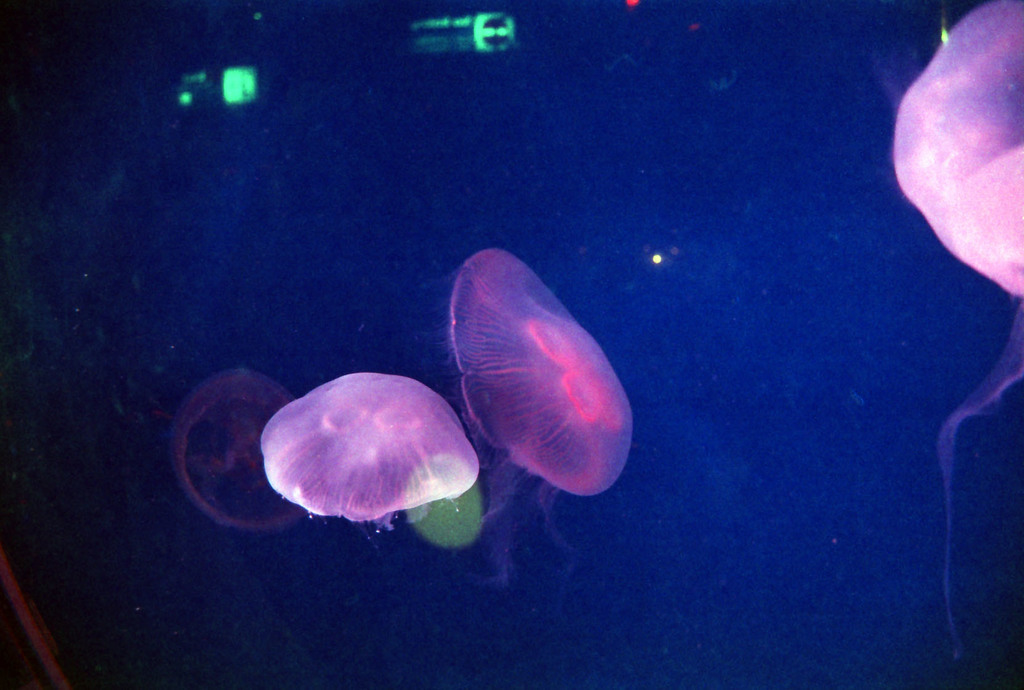Jellyfish: (892, 0, 1023, 622), (417, 242, 633, 522), (255, 367, 478, 540), (167, 363, 306, 532)
